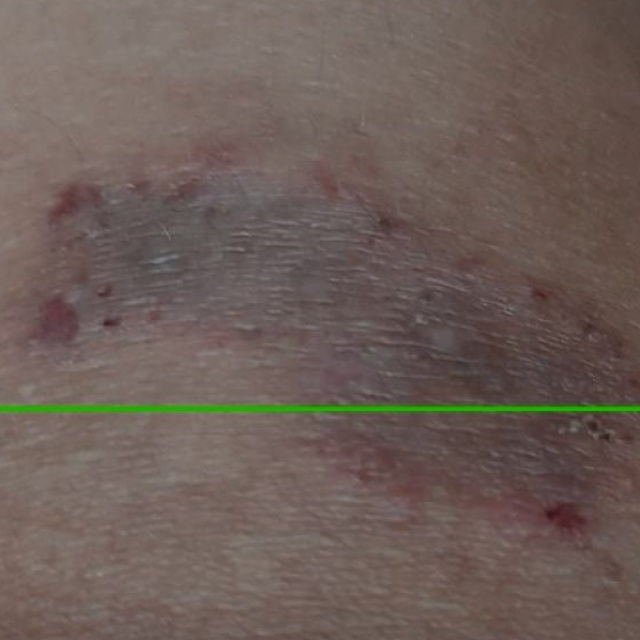Tinea Corporis: (0, 0, 639, 409)
